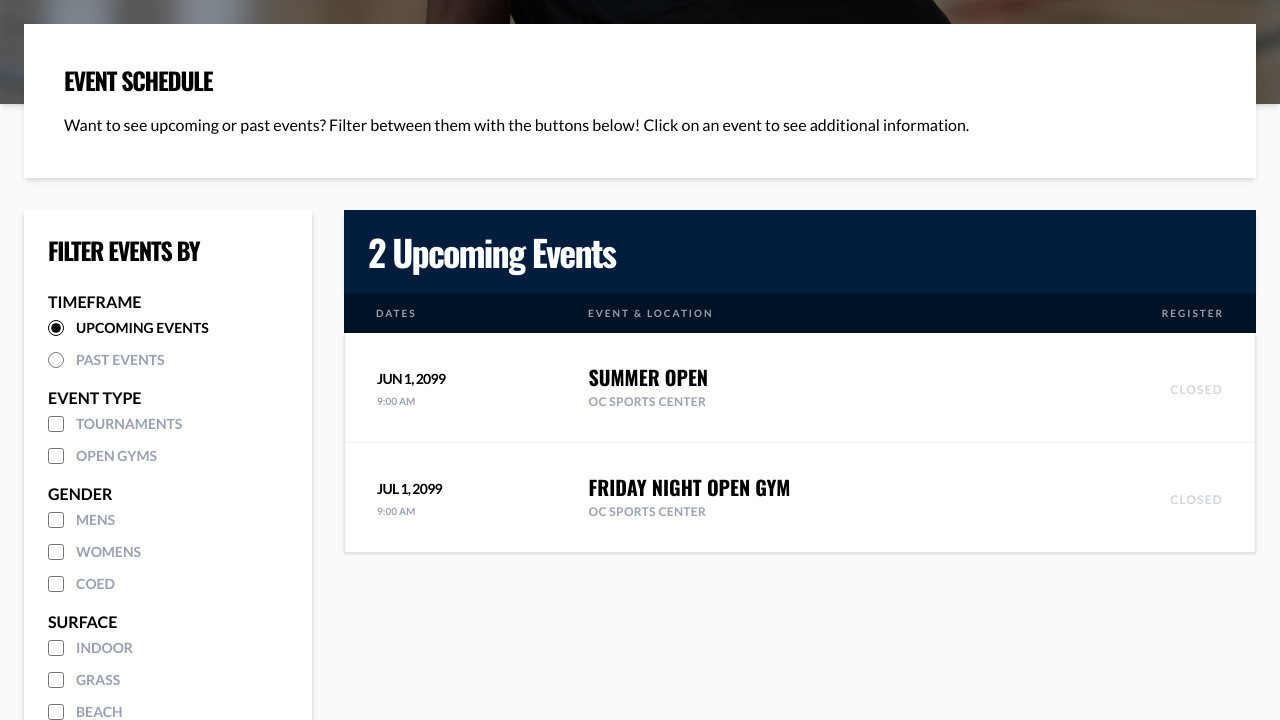
EventList › upcoming / past toggle › shows past events after clicking the Past radio button
The image size is (1280, 720).
(page scrolled)
What coordinates should you click on to do the following:
click the radio button labelled "past Events"
I would click on:
 (56, 360)
Its box is [48,352,64,368].
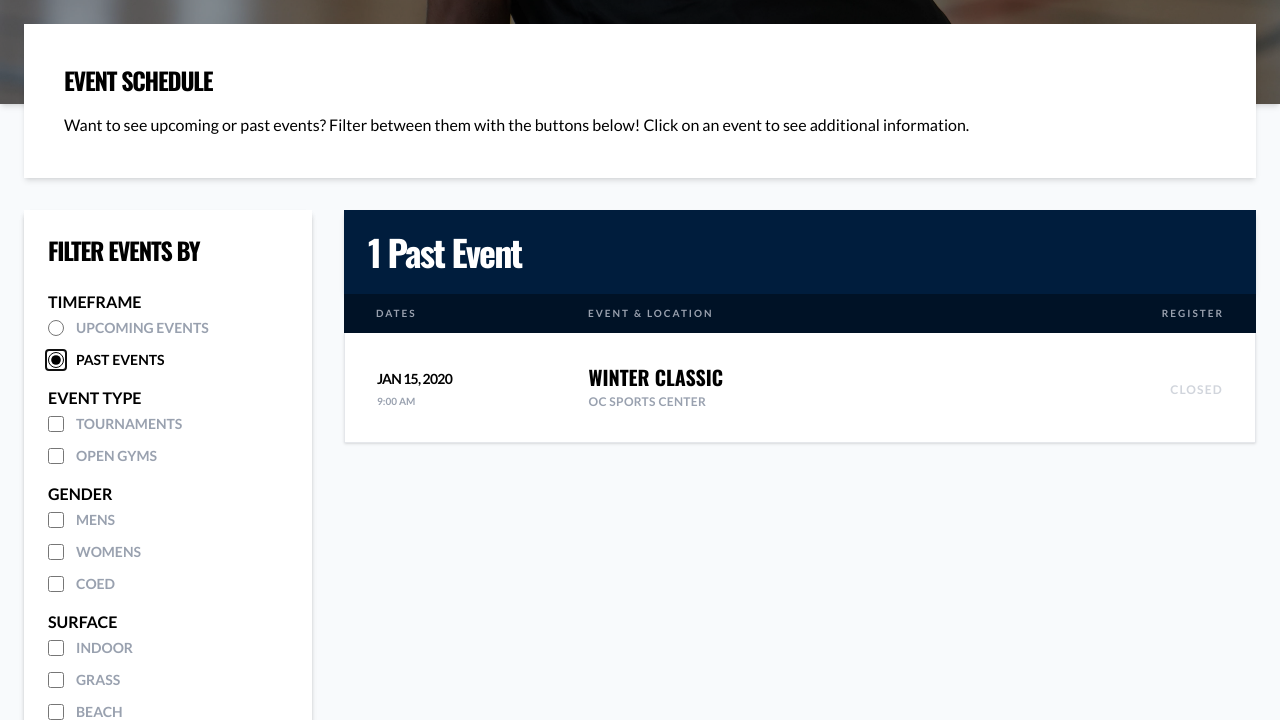
expect the heading "Winter Classic" is shown: met, box [588,362,723,392]
expect the link "Summer Open" is gone: met
